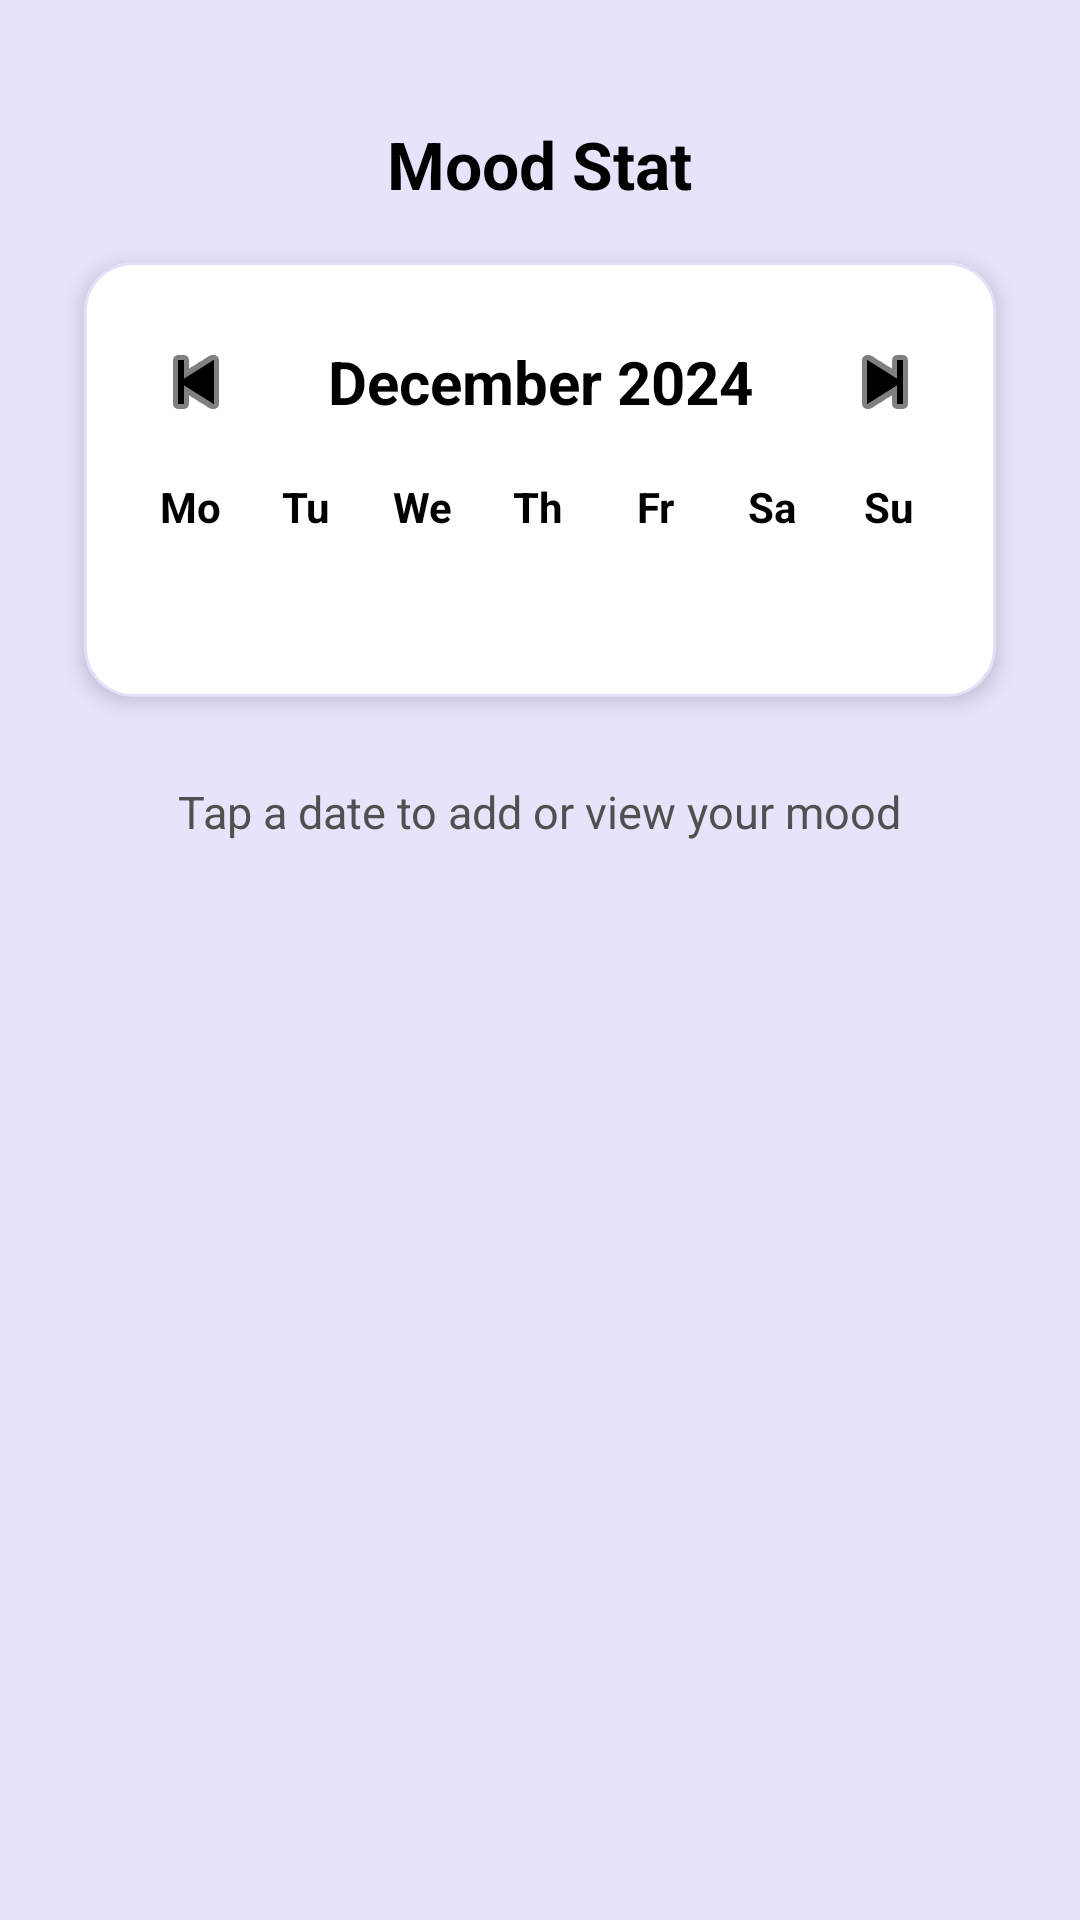

Icons on this 1080 x 1920 Android screen, each with the point to tap as [x,y]:
Next Month: [885,382]
Previous Month: [196,382]
